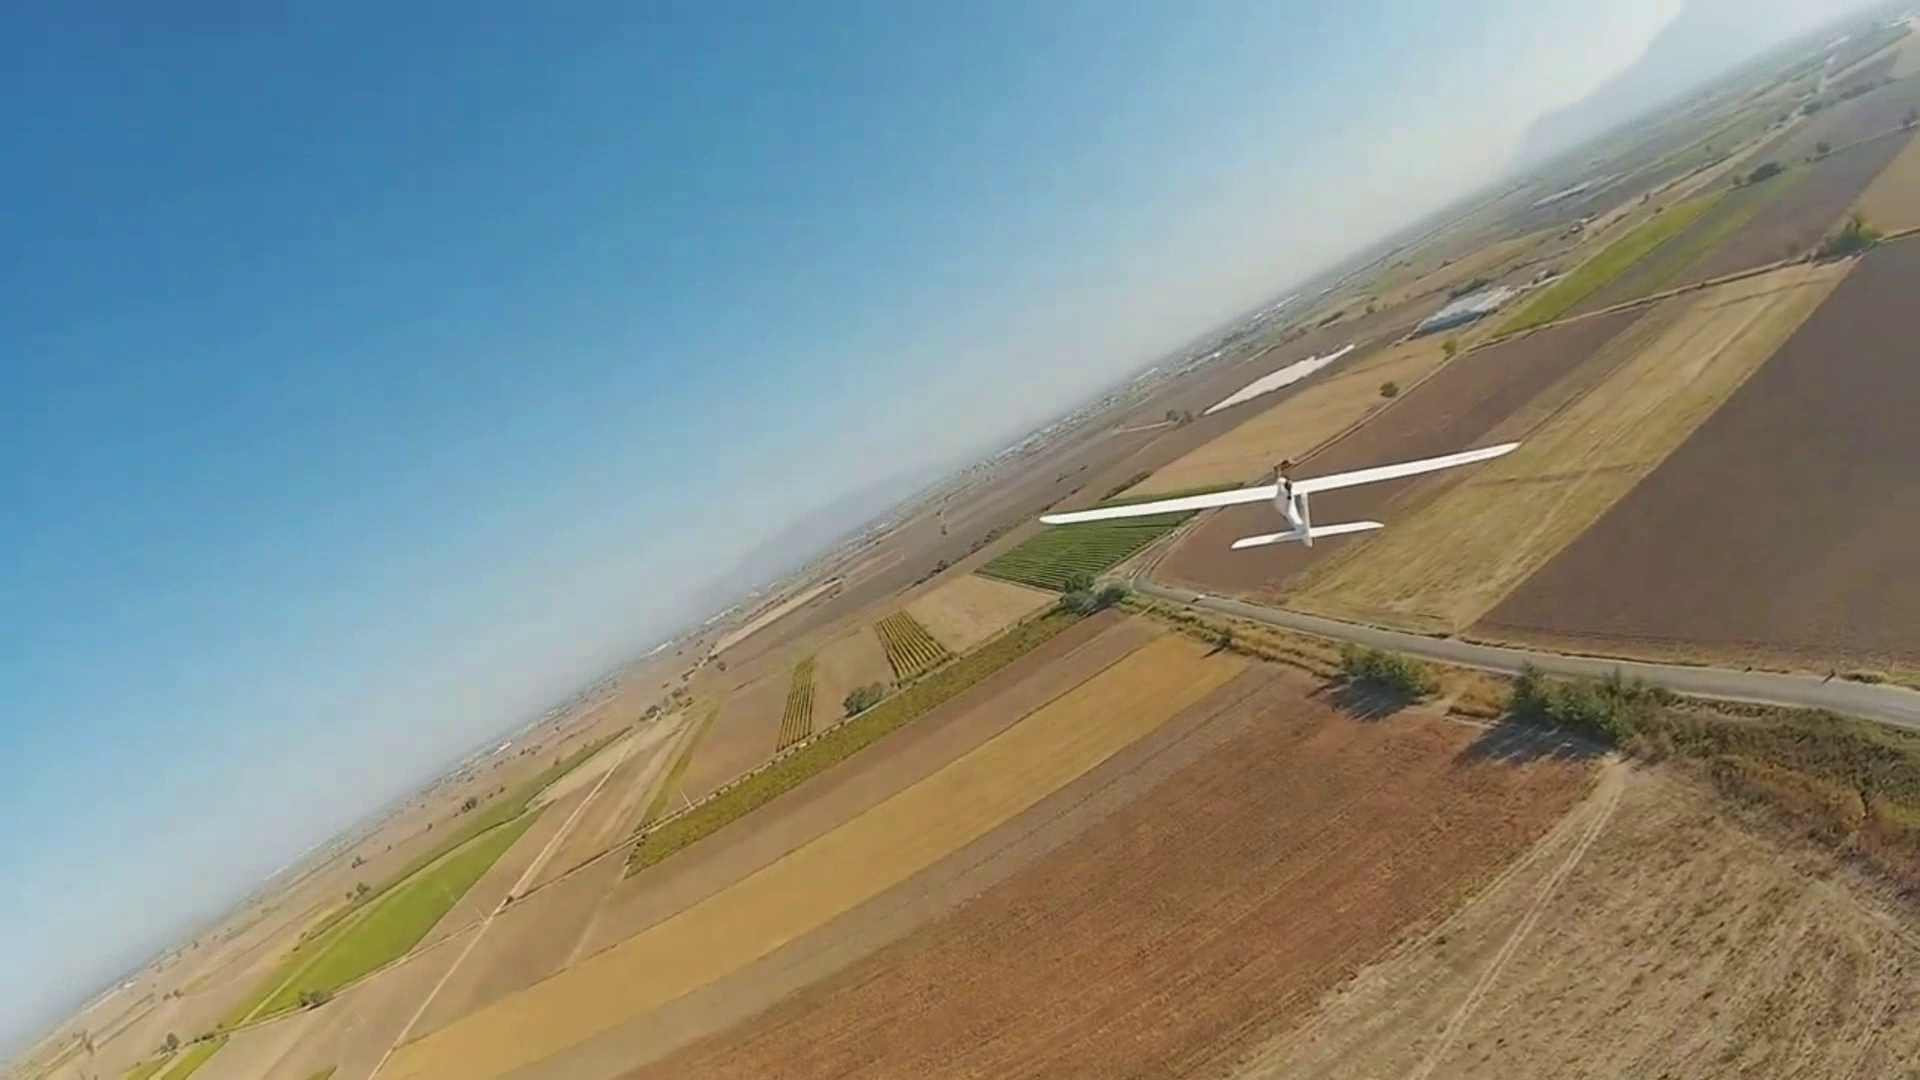airplane: (13, 127, 1904, 1069)
